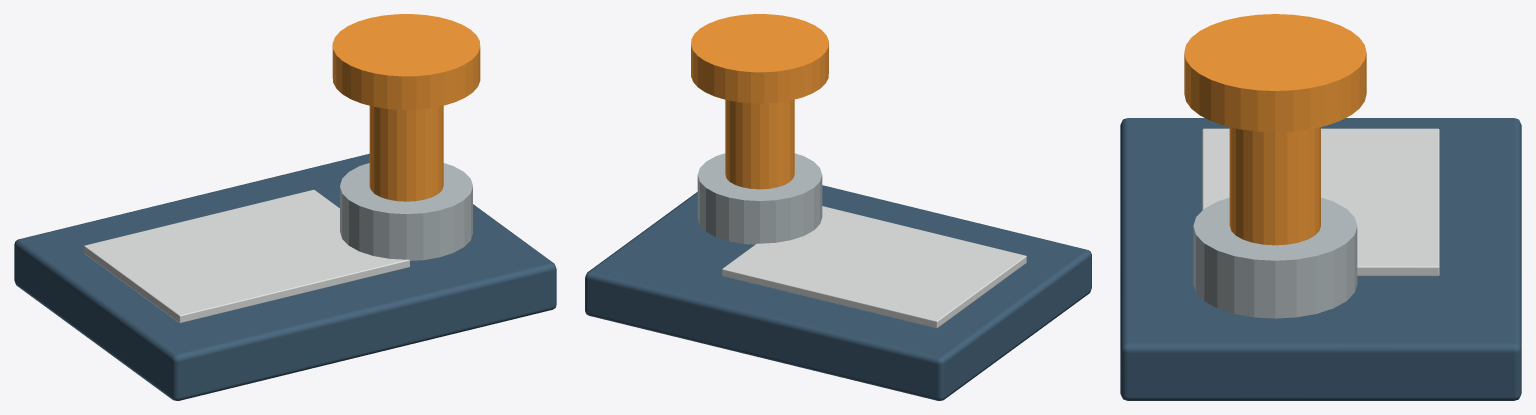
The model's file is container-inspection-and-customs-yard-container-inspec-418a38a8__29291.glb.
3 views of the same model, side by side, from view 1: azimuth 30°, elevation 25°; view 2: azimuth 150°, elevation 25°; view 3: azimuth 270°, elevation 25° (orthographic). The views are drawn at different scales.
Visible parts, largest first — view 1: container-inspection-and-customs-yard-customs-stamp-station_ (×4); view 2: container-inspection-and-customs-yard-customs-stamp-station_ (×4); view 3: container-inspection-and-customs-yard-customs-stamp-station_ (×4).
Boxes of the visible parts, <box> form: container-inspection-and-customs-yard-customs-stamp-station_ (×4): <box>14,14,556,400</box>; container-inspection-and-customs-yard-customs-stamp-station_ (×4): <box>585,14,1091,400</box>; container-inspection-and-customs-yard-customs-stamp-station_ (×4): <box>1120,14,1521,400</box>.
Bounding box in the file's own units: 0.3 × 0.18 × 0.22.
